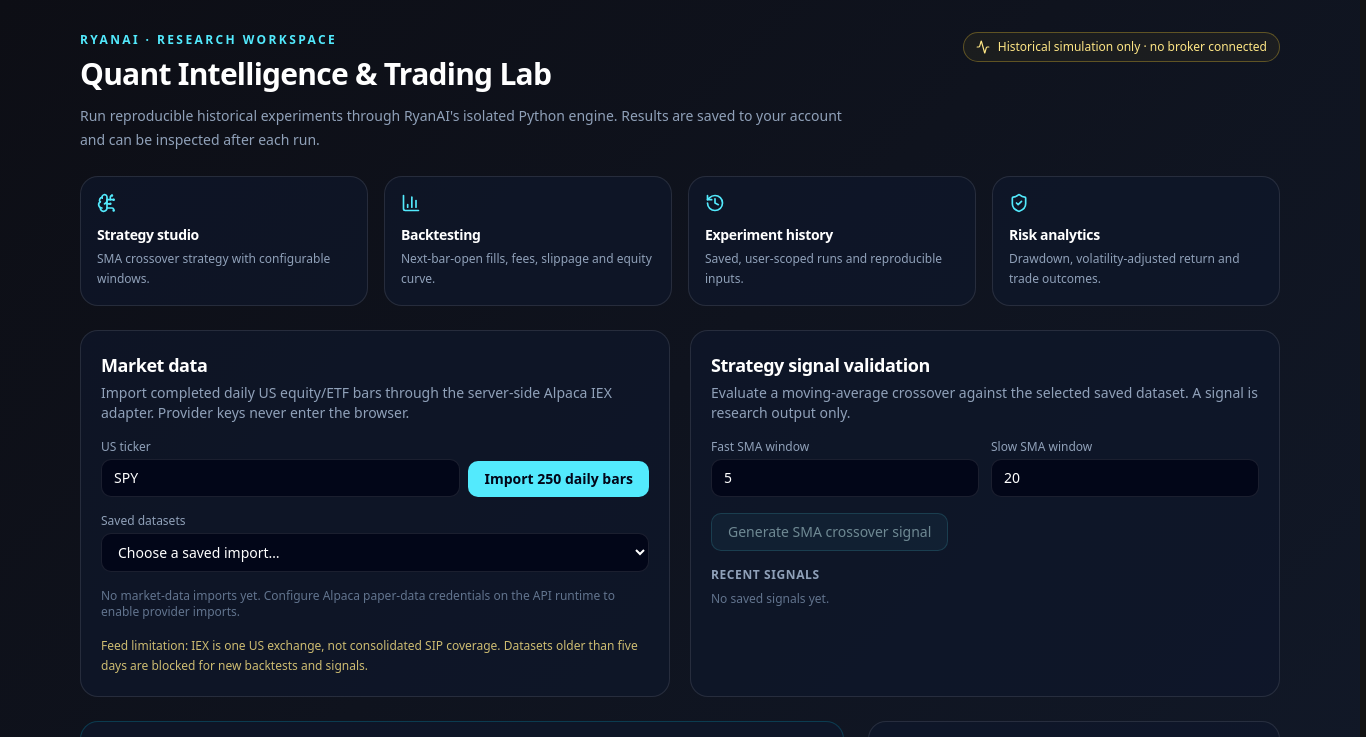
Test: Quant Lab market data workflow › imports a dataset, selects it and generates a research-only signal
Click the button "Import 250 daily bars": (559, 479) x1=468 y1=461 x2=649 y2=497
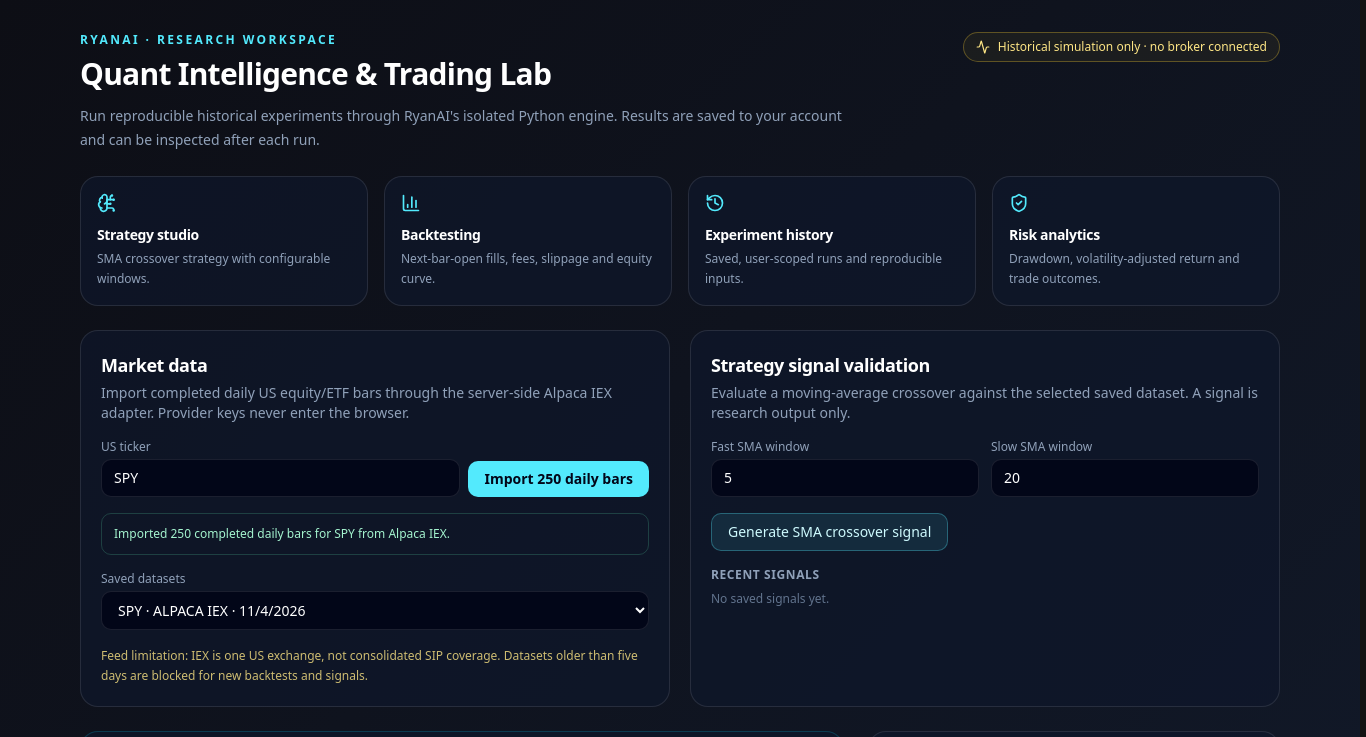
Result: the text "Imported 250 completed daily bars" is shown at x1=114 y1=525 x2=450 y2=542
Result: the dropdown labelled "Saved datasets" shows "SPY · ALPACA IEX · 11/4/2026" at x1=101 y1=591 x2=649 y2=630
Click the button "Generate SMA crossover signal": (830, 532) x1=711 y1=513 x2=948 y2=551
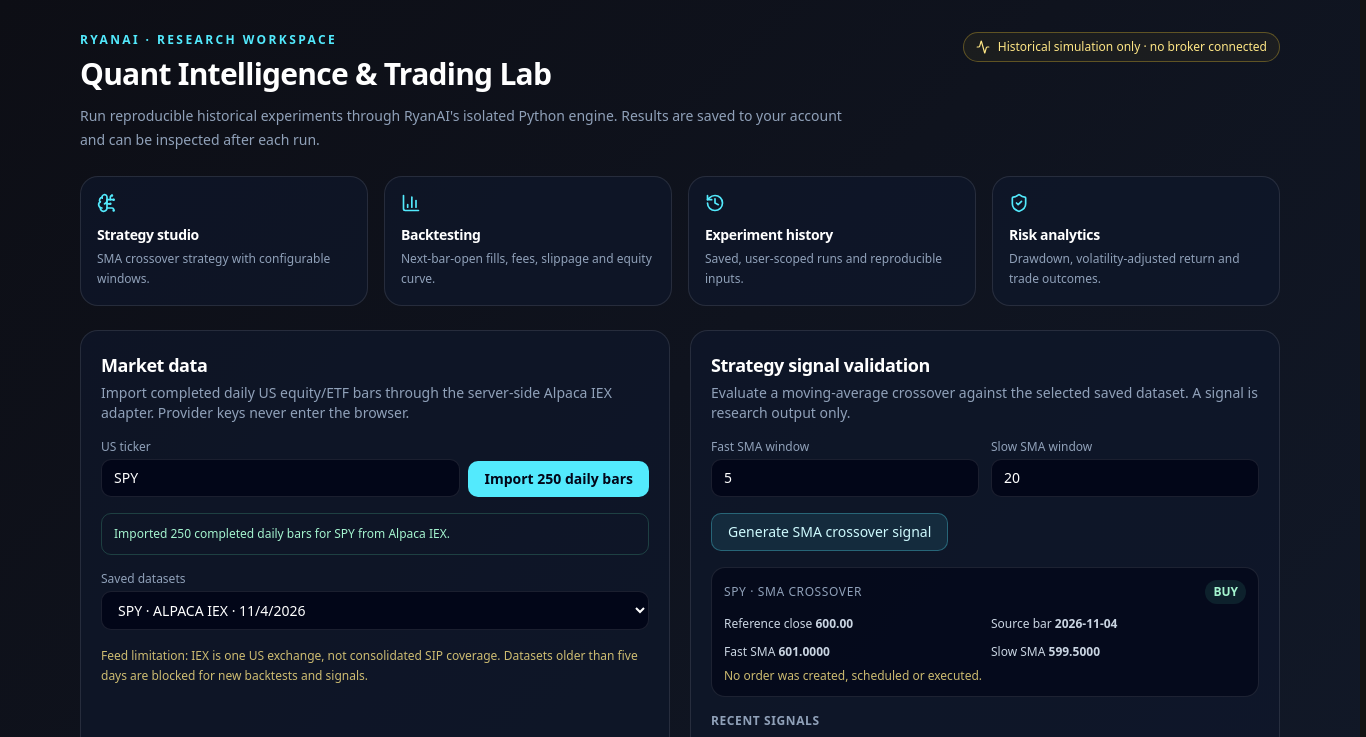
Result: the text "SPY · sma crossover" is shown at x1=724 y1=584 x2=862 y2=600
Result: the text "buy" is shown at x1=1205 y1=580 x2=1246 y2=604
Result: the text "No order was created, scheduled or executed." is shown at x1=724 y1=667 x2=982 y2=684
